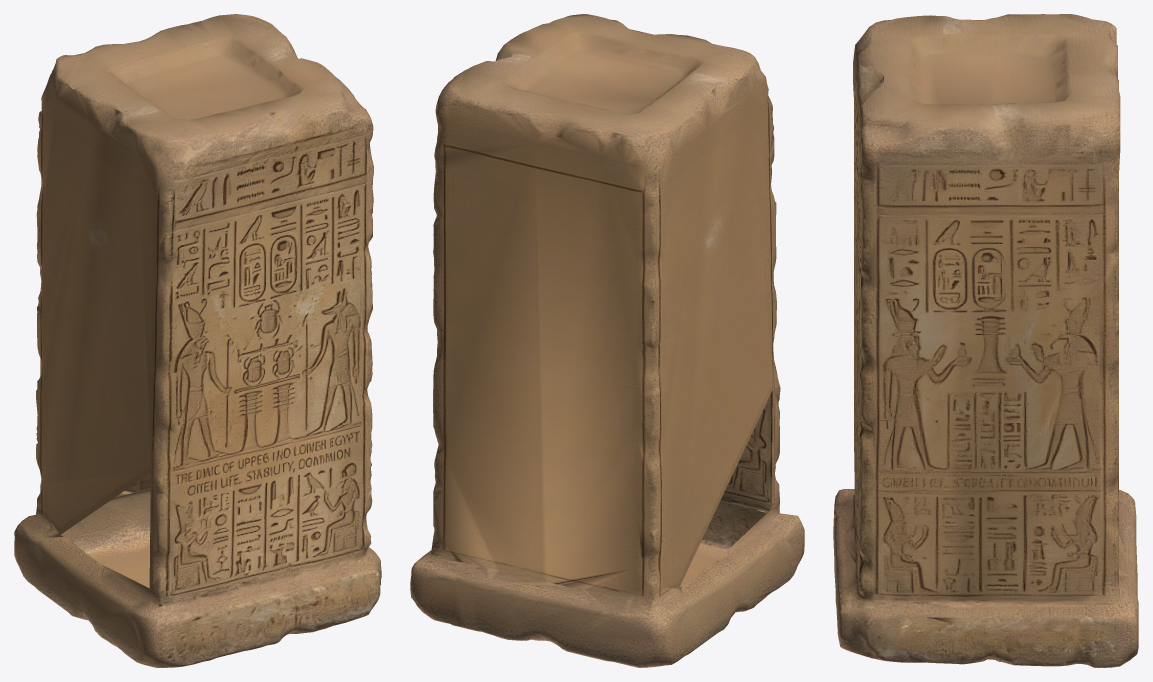
3 views of the same model, side by side, from view 1: azimuth 30°, elevation 25°; view 2: azimuth 150°, elevation 25°; view 3: azimuth 270°, elevation 25° (orthographic). The views are drawn at different scales.
Visible parts, largest first — view 1: tripo_node_1add5fb1-f112-46c5-a7c3-1dd405c7294f; view 2: tripo_node_1add5fb1-f112-46c5-a7c3-1dd405c7294f; view 3: tripo_node_1add5fb1-f112-46c5-a7c3-1dd405c7294f.
Boxes of the visible parts, x1,y1,x2,y2 form: tripo_node_1add5fb1-f112-46c5-a7c3-1dd405c7294f: (14, 14, 381, 667); tripo_node_1add5fb1-f112-46c5-a7c3-1dd405c7294f: (410, 14, 804, 667); tripo_node_1add5fb1-f112-46c5-a7c3-1dd405c7294f: (833, 14, 1138, 667).
Bounding box in the file's own units: 0.5098 × 0.998 × 0.5137.
Materials: 1 (1 with a texture image).
